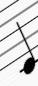LC: (8, 2, 38, 77)
